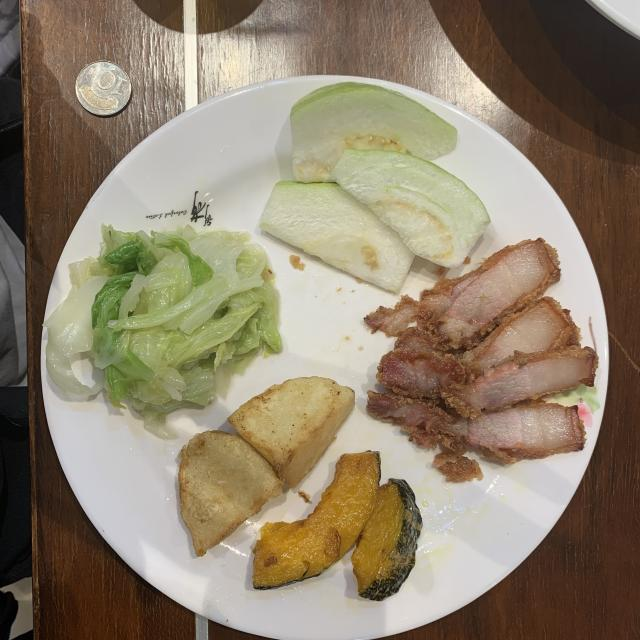cabbage: (45, 225, 281, 435)
coin: (75, 61, 131, 116)
fried potato: (179, 376, 355, 556)
guava -sliced-: (259, 82, 489, 292)
pumpkin: (252, 451, 421, 600)
red grilled pork: (365, 239, 598, 481)
